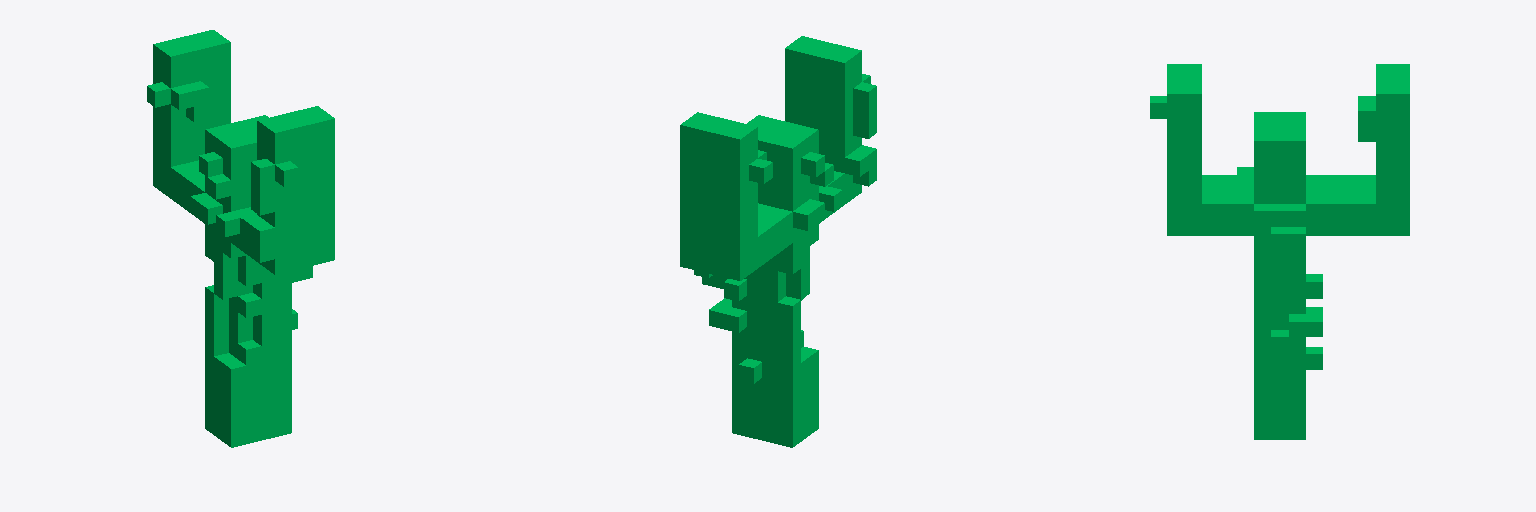
The picture shows the model from 3 angles: view 1: azimuth 30°, elevation 25°; view 2: azimuth 150°, elevation 25°; view 3: azimuth 270°, elevation 25°; orthographic projection.
Visible parts, largest first — view 1: desertPlantation2; view 2: desertPlantation2; view 3: desertPlantation2.
Boxes of the visible parts, <box> form: desertPlantation2: <box>147,30,334,447</box>; desertPlantation2: <box>680,36,876,447</box>; desertPlantation2: <box>1150,64,1409,439</box>.
Bounding box in the file's own units: 3.5 × 11 × 7.5.
1 materials, 1 textured.